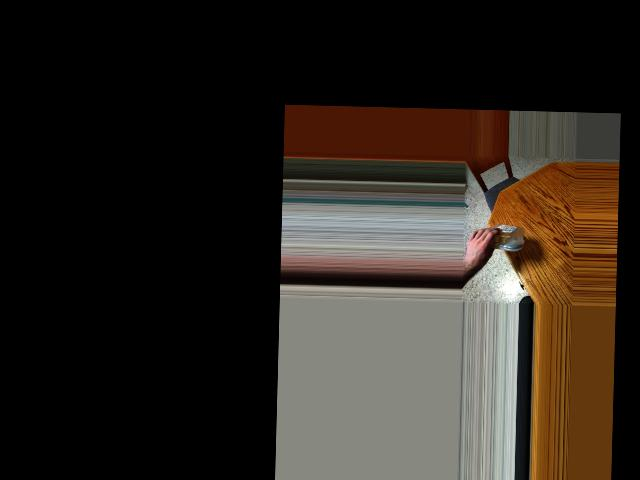cheese: (485, 215, 525, 268)
